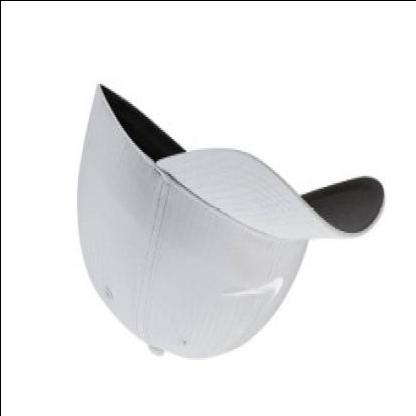cap: (70, 63, 394, 372)
